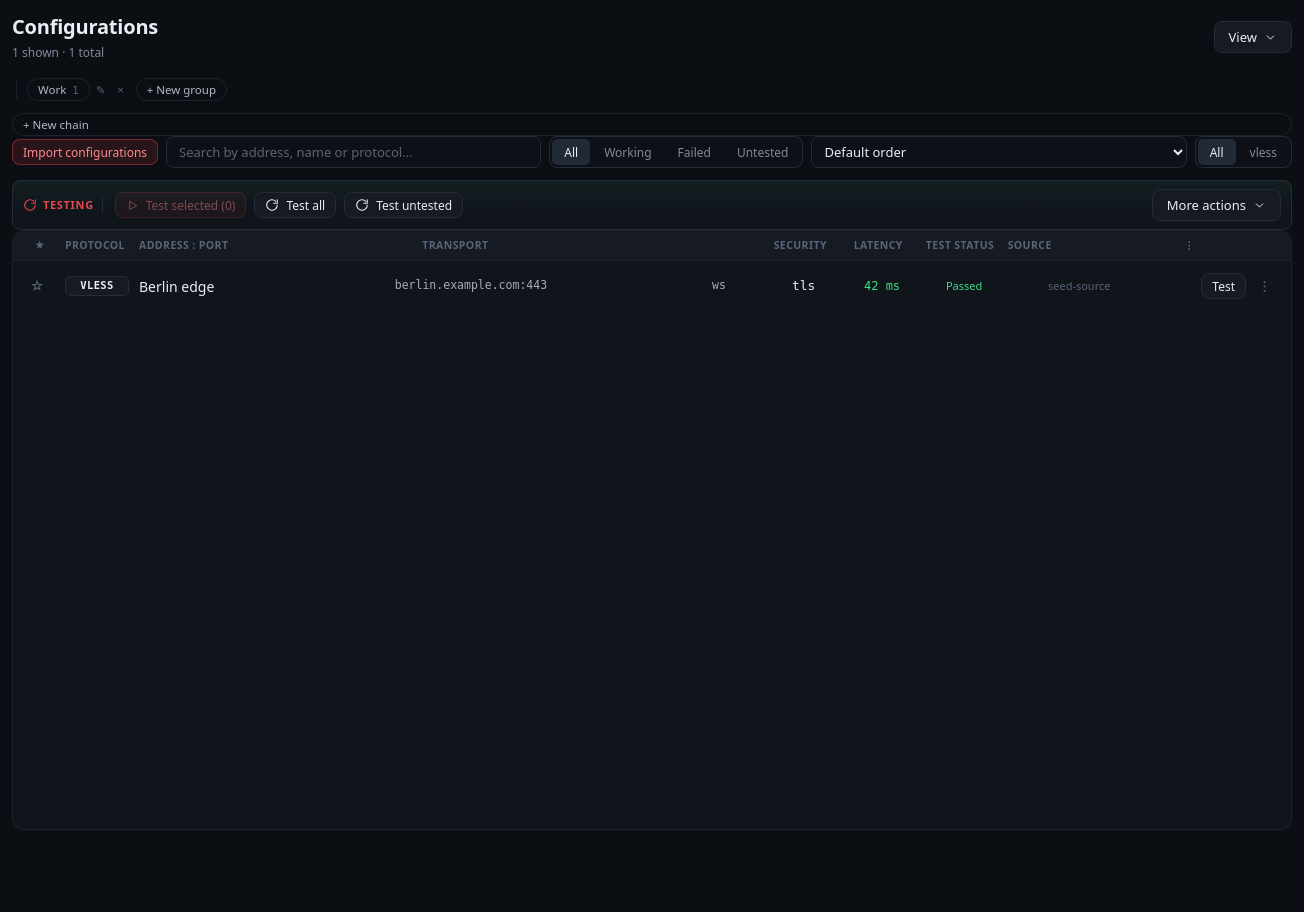
Test: Configs detail panel (v0.9.13) › opens on row click with grouped technical sections
Check: the list named "Configurations" is shown, box [25,273,1279,299]
Click the text "Berlin edge" at (177, 286), box [139,276,214,296]
(page scrolled)
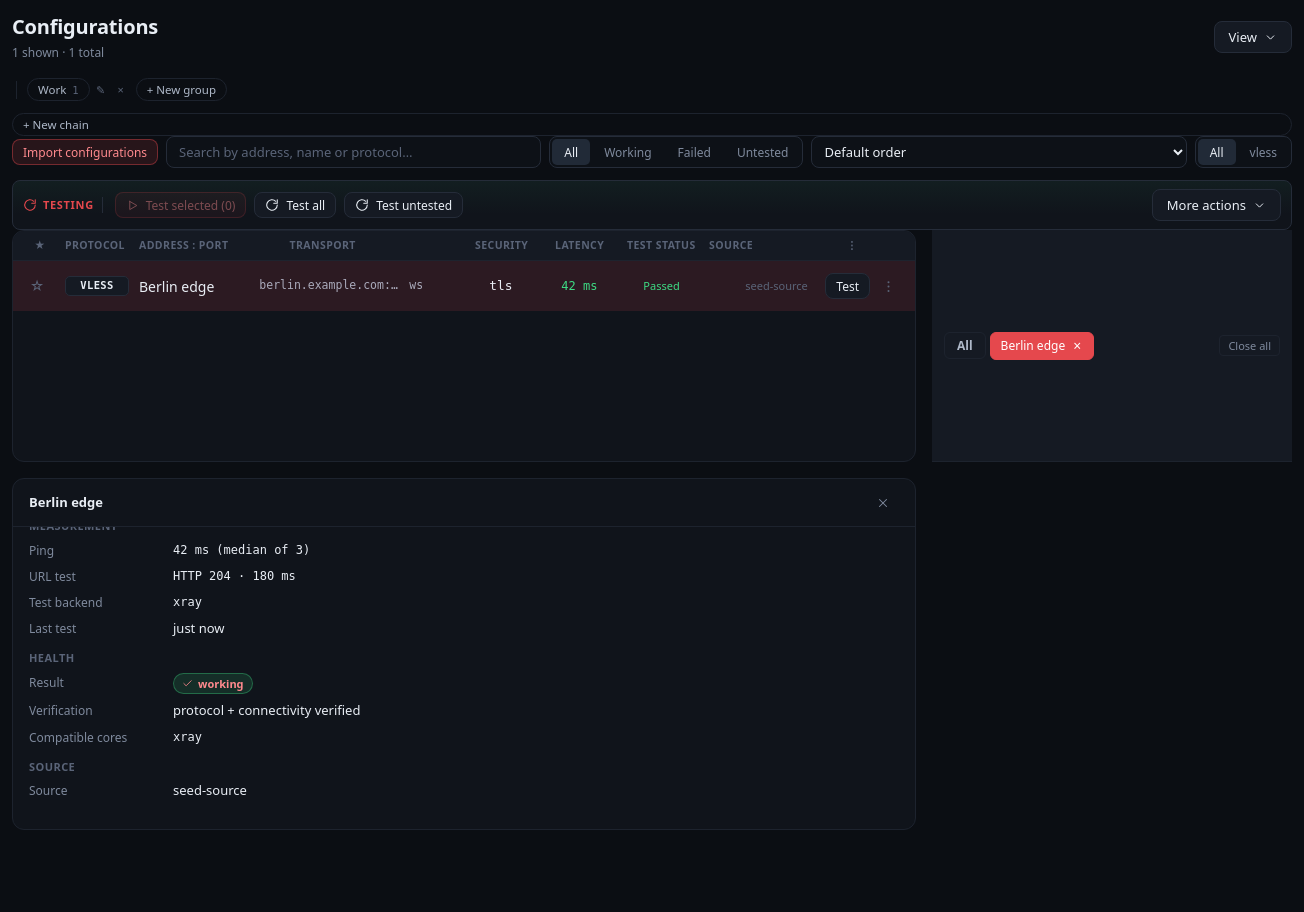
Check: the element named "Configuration details" is shown, box [12,478,916,830]
Check: the heading "Health" is shown, box [29,650,75,665]
Check: the heading "Source" is shown, box [29,759,75,774]
